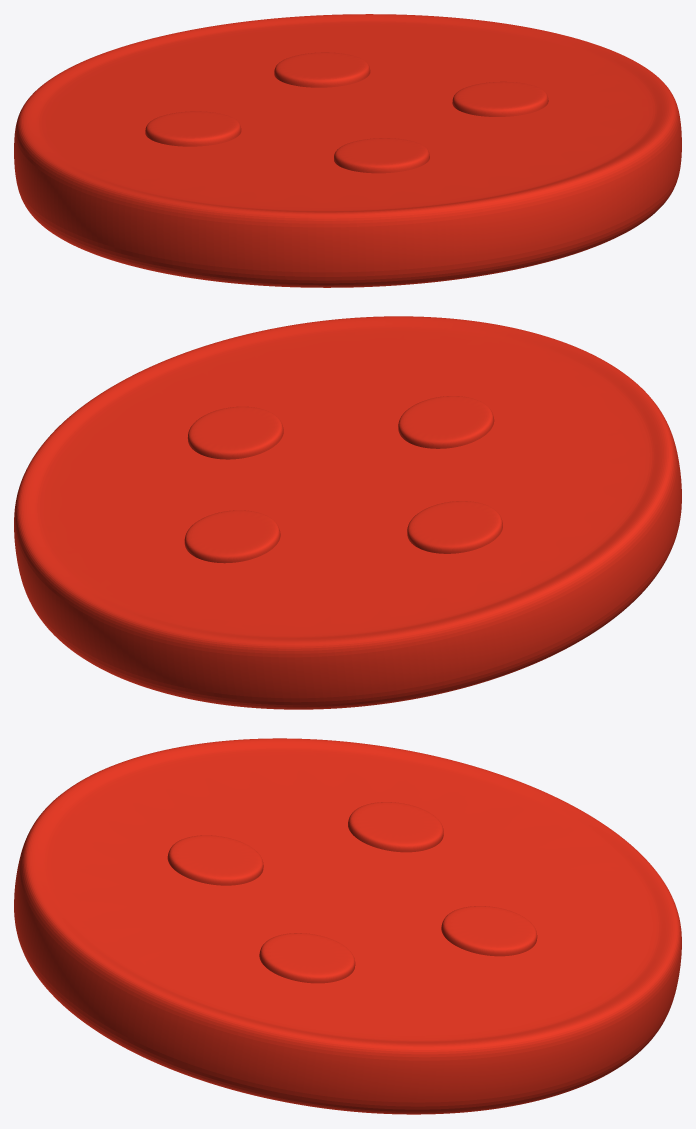
The model's file is tommate_1.fbx.
The picture shows the model from 3 angles, top to bottom: view 1: azimuth 30°, elevation 25°; view 2: azimuth 150°, elevation 25°; view 3: azimuth 270°, elevation 25°; orthographic projection.
Visible parts, largest first — view 1: tomato.007; view 2: tomato.007; view 3: tomato.007.
Part boxes in pixels (left/top/right/bottom): tomato.007: left=14, top=14, right=681, bottom=287; tomato.007: left=14, top=316, right=681, bottom=709; tomato.007: left=14, top=738, right=681, bottom=1114.
Size of the model in its own units: 106 by 25.45 by 106.
